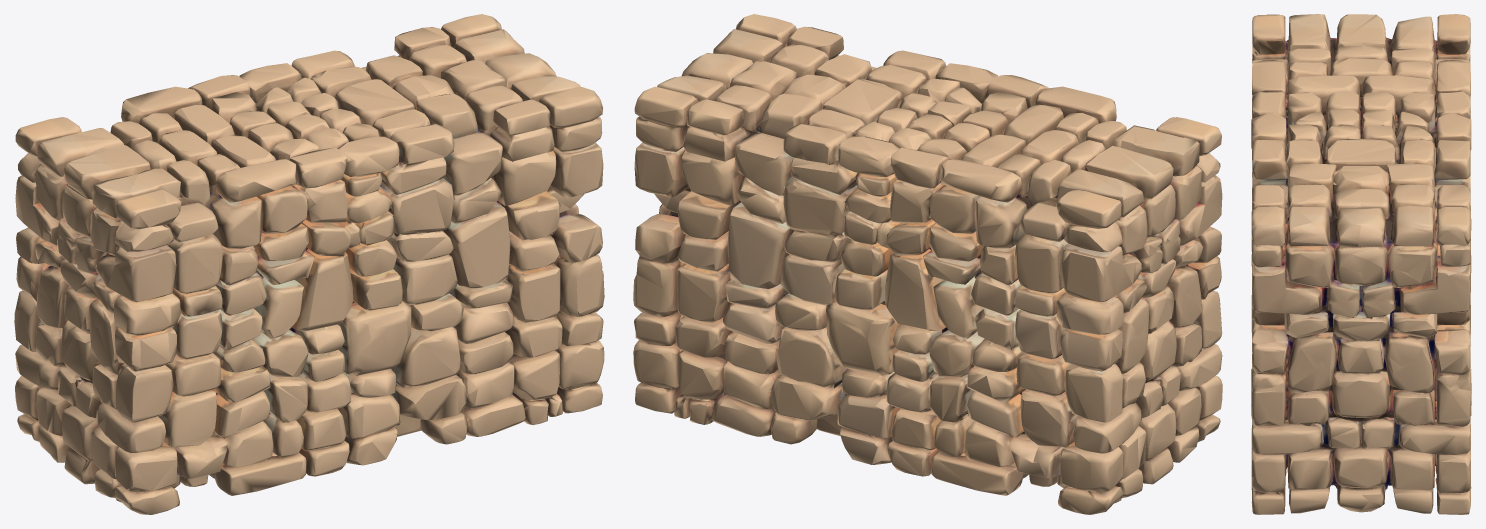
Rendered from cobble_tile.glb.
3 views of the same model, side by side, from view 1: azimuth 30°, elevation 25°; view 2: azimuth 150°, elevation 25°; view 3: azimuth 270°, elevation 25° (orthographic). The views are drawn at different scales.
Size of the model in its own units: 1.9 by 1.19 by 0.8173.
1 material, 1 textured.
